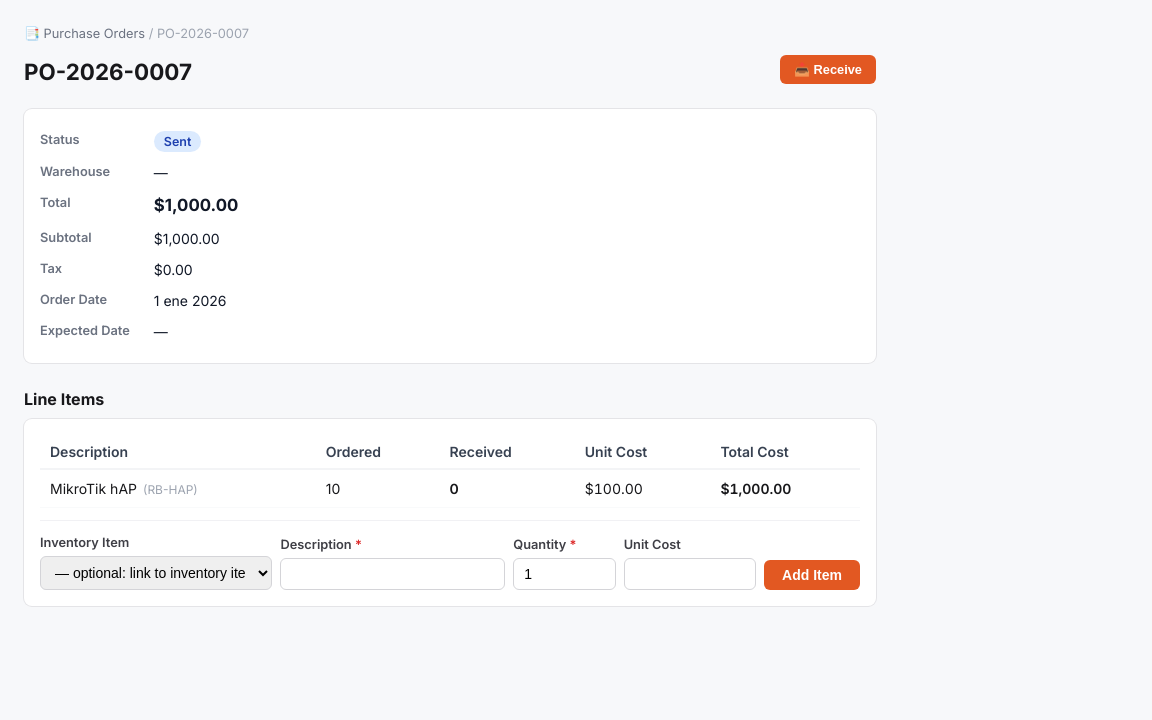
Test case: PurchaseOrderDetail page › adding a line item posts it and recomputes/persists the PO subtotal and total
Expected: the text "MikroTik hAP" is shown, [50,480,137,497]
Type "MikroTik hAP" into the field labelled "Description *". click: (393, 574)
box: [280,558,505,590]
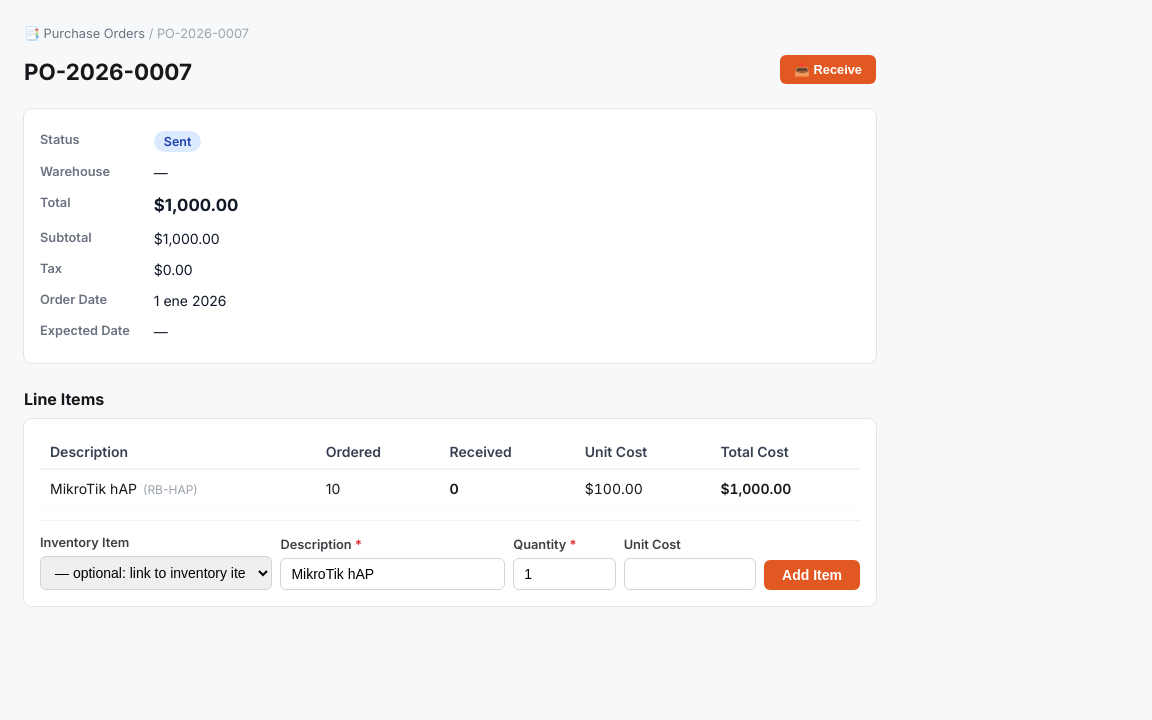
Replace the text in the number field labelled "Quantity *" with "5". click: (564, 574)
box: [513,558,616,590]
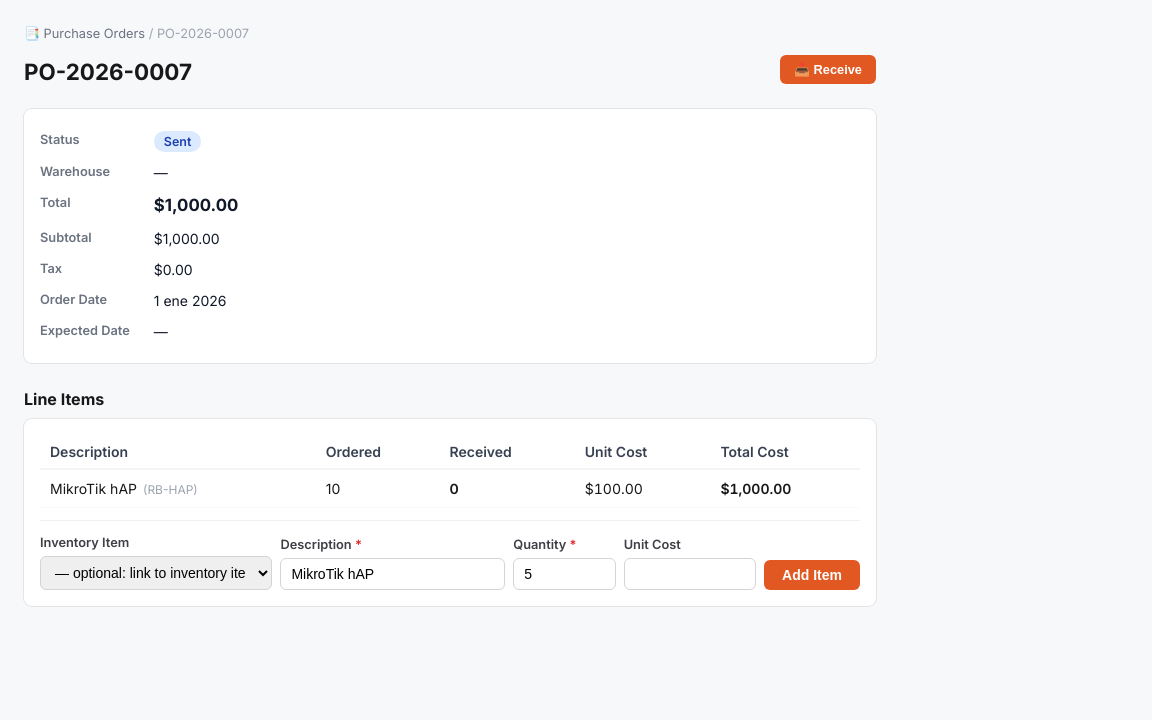
Type "100" into the number field labelled "Unit Cost". click: (690, 574)
box: [624,558,756,590]
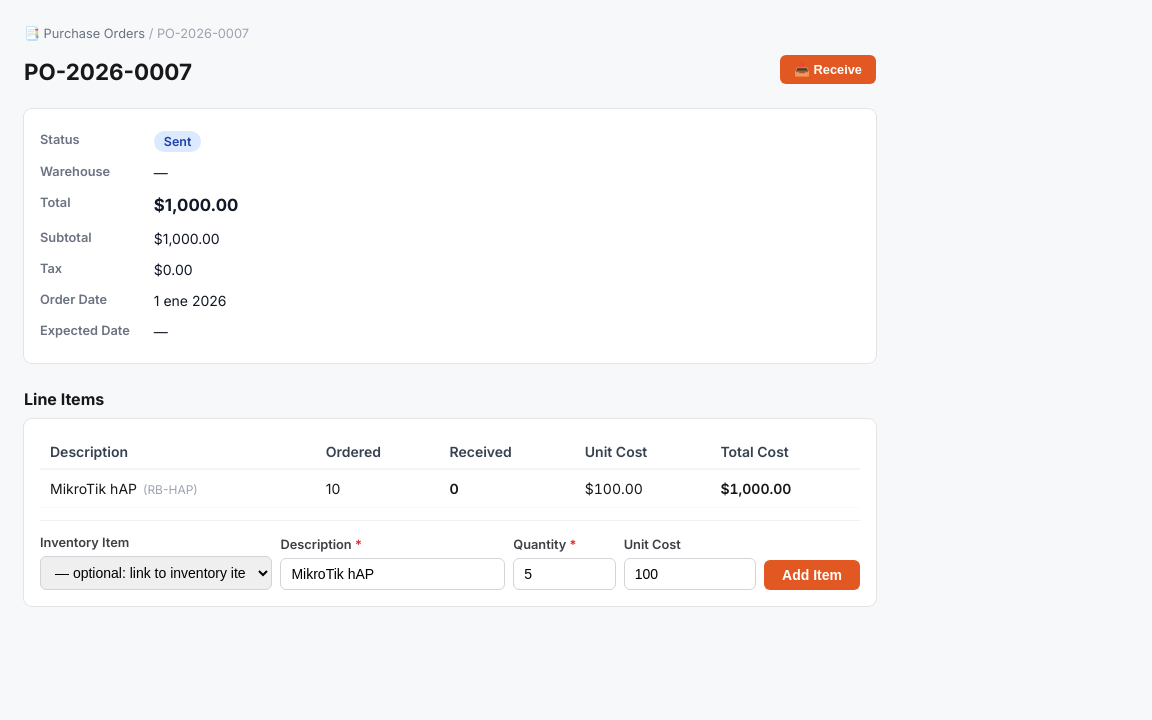
Click the button "Add Item". click: (812, 575)
box: [764,560,860,590]
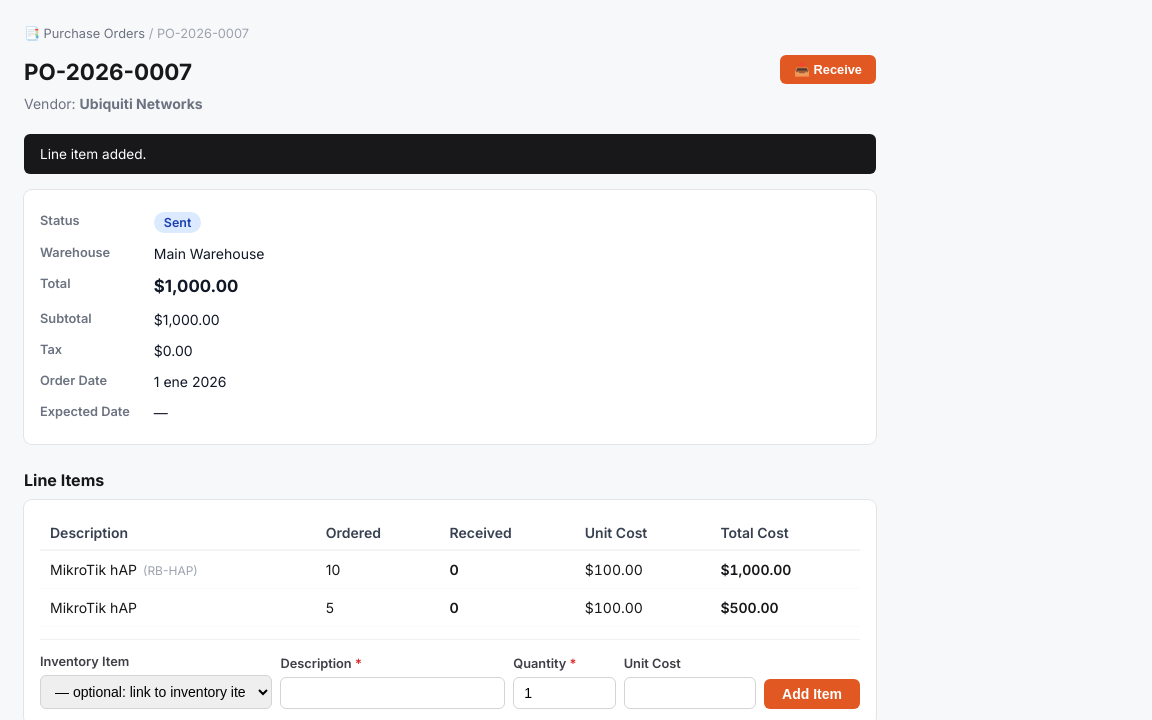
Now the text "Line item added." is shown, box [24,134,876,174]
